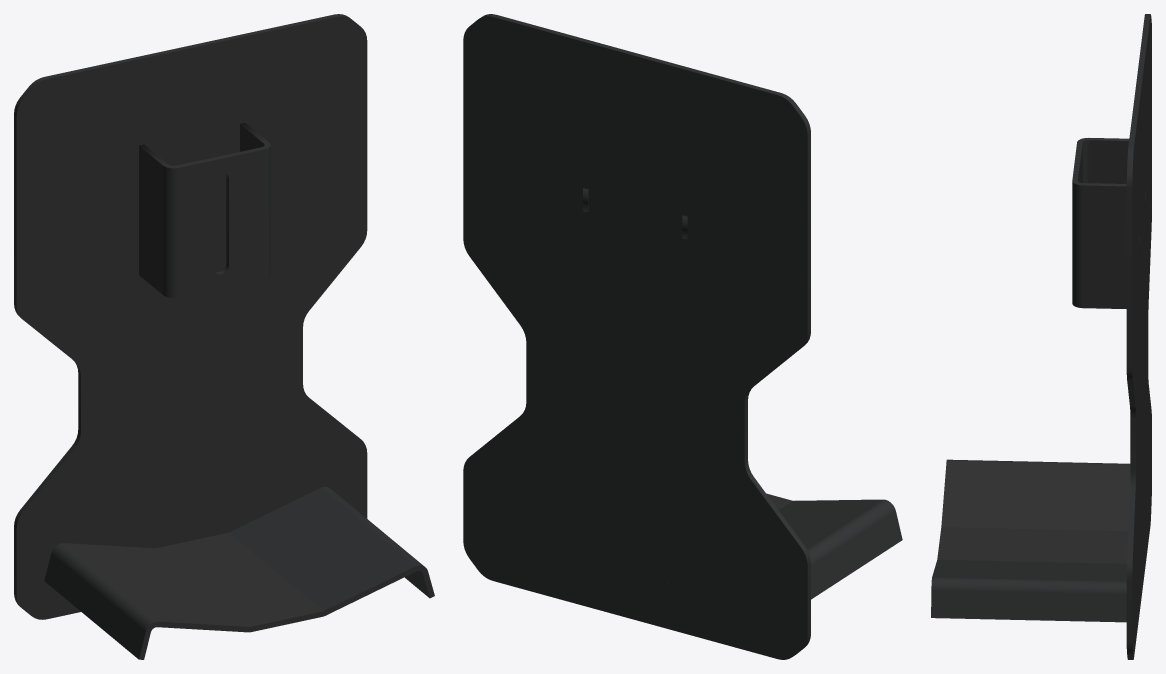
The model's file is wheel-carrier.glb.
The picture shows the model from 3 angles, left to right: view 1: azimuth 30°, elevation 25°; view 2: azimuth 150°, elevation 25°; view 3: azimuth 270°, elevation 25°; orthographic projection. The views are drawn at different scales.
Visible parts, largest first — view 1: Body1.065, Body1.063, Body1.067; view 2: Body1.065, Body1.063; view 3: Body1.063, Body1.065, Body1.067.
Part boxes in pixels (bbox=[...]): Body1.065: bbox=[14, 14, 367, 619]; Body1.063: bbox=[44, 487, 434, 659]; Body1.067: bbox=[139, 122, 270, 297]; Body1.065: bbox=[463, 14, 810, 659]; Body1.063: bbox=[603, 493, 902, 599]; Body1.063: bbox=[931, 459, 1143, 622]; Body1.065: bbox=[1126, 14, 1151, 659]; Body1.067: bbox=[1072, 138, 1145, 308].
Bounding box in the file's own units: 0.3298 × 0.5 × 0.1958.
Materials: 1 (1 with a texture image).
